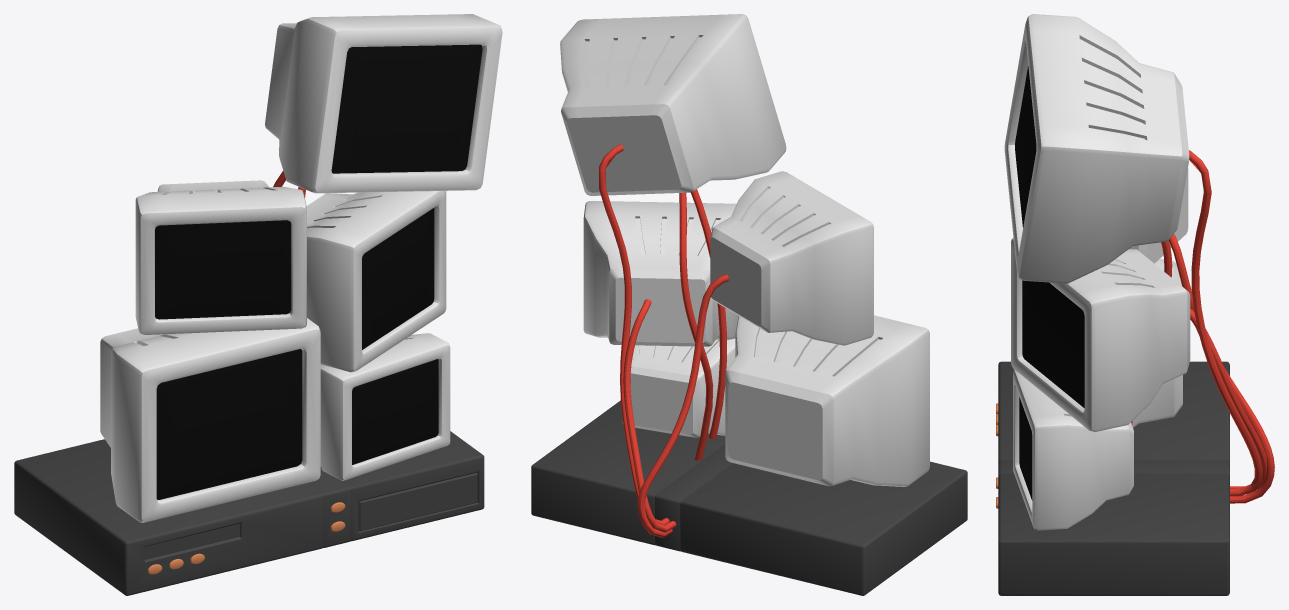
Rendered from computer_horde.fbx.
The picture shows the model from 3 angles, left to right: view 1: azimuth 30°, elevation 25°; view 2: azimuth 150°, elevation 25°; view 3: azimuth 270°, elevation 25°; orthographic projection. The views are drawn at different scales.
Visible parts, largest first — view 1: Cube.001; view 2: Cube.001; view 3: Cube.001.
Boxes of the visible parts, x1=… form: Cube.001: x1=14, y1=14, x2=502, y2=595; Cube.001: x1=531, y1=14, x2=967, y2=595; Cube.001: x1=996, y1=14, x2=1274, y2=595.
Size of the model in its own units: 539 by 649 by 318.
